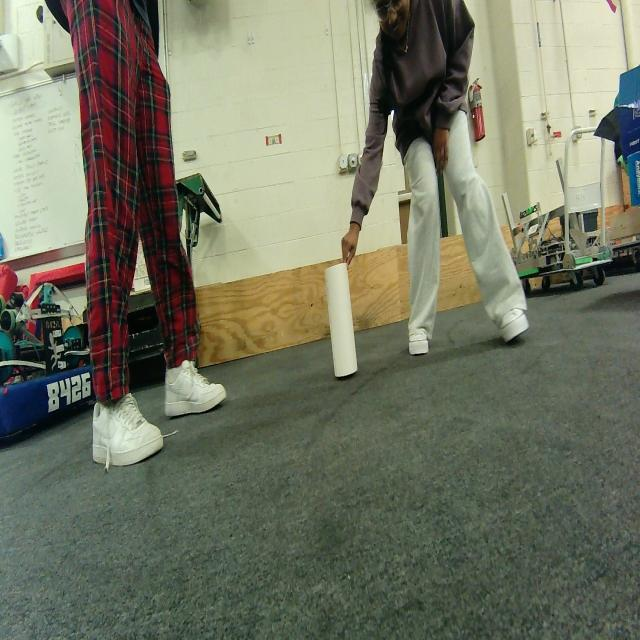coral: (325, 263, 357, 379)
